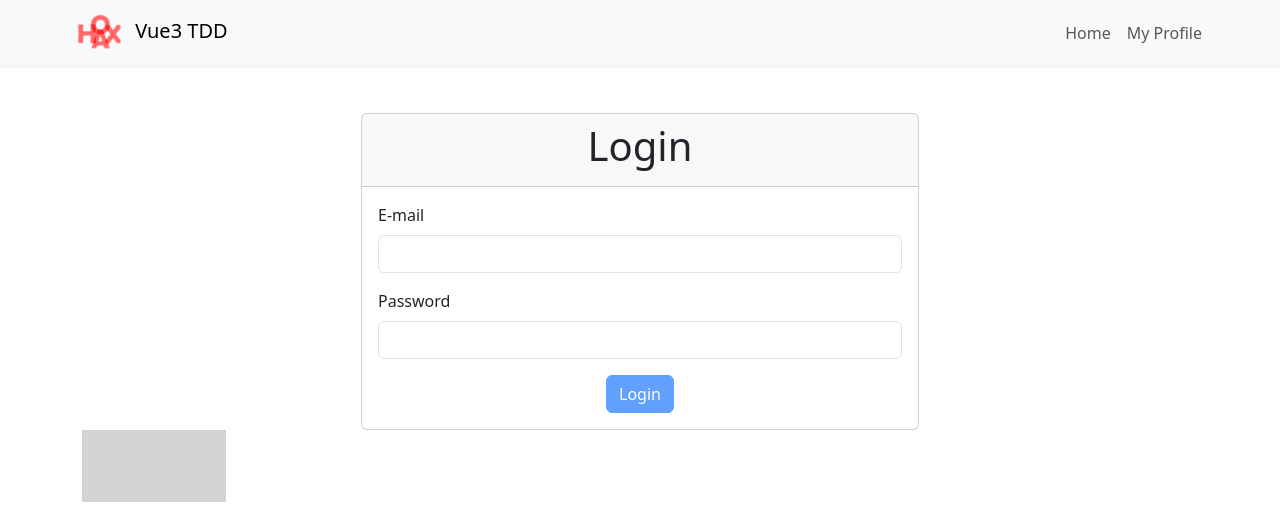
Test: Login › Redirecionando para home após o login
Step 1. Type "user5@mail.com" into the field labelled "E-mail" → (640, 254), box [378,235,902,273]
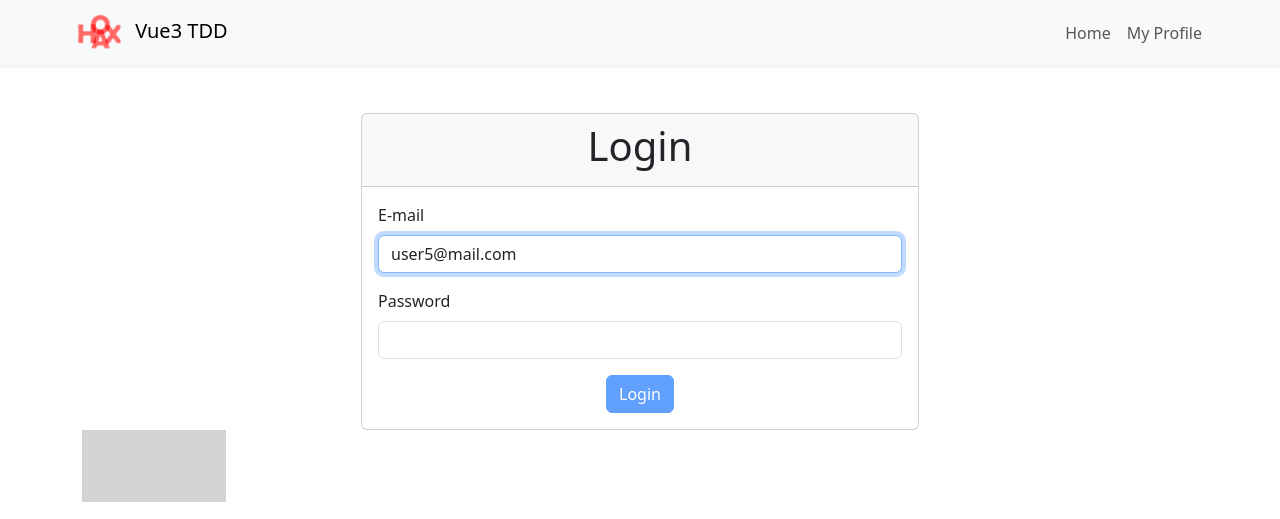
Step 2. Type "P4ssword" into the password field labelled "Password" → (640, 340), box [378,321,902,359]
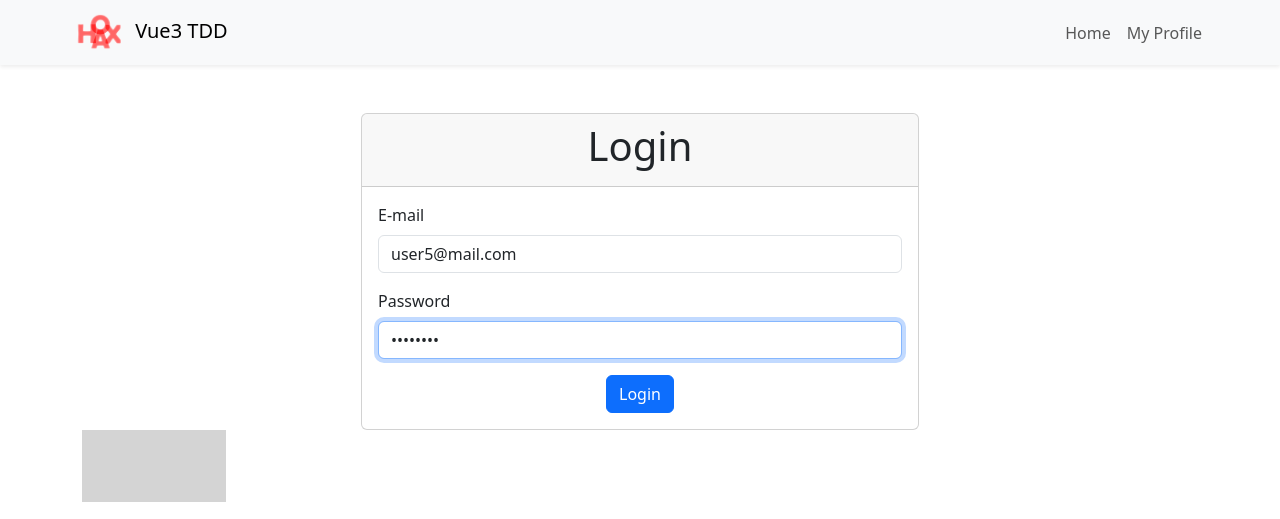
Step 3. Click the button "Login" → (640, 394), box [606,375,674,413]
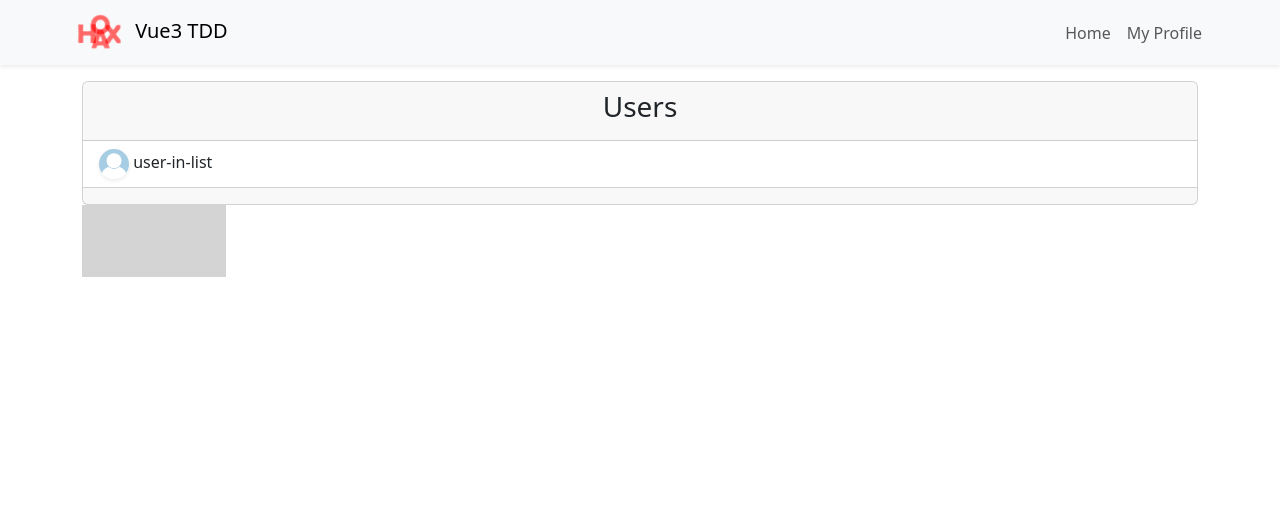
Check: the element with test id "home-page" is shown, box [82,81,1198,205]
